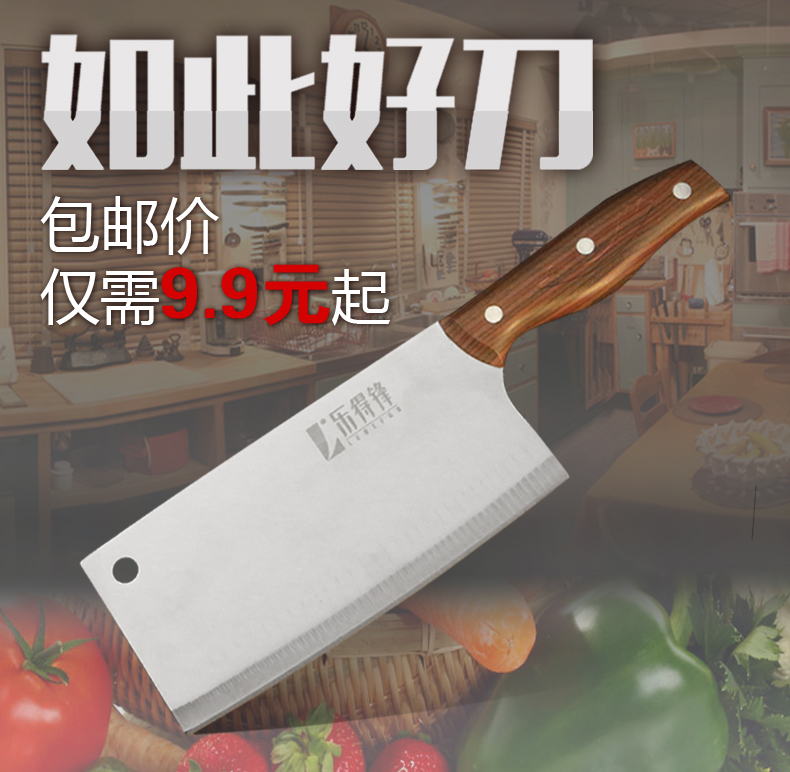knief: (112, 167, 724, 733)
